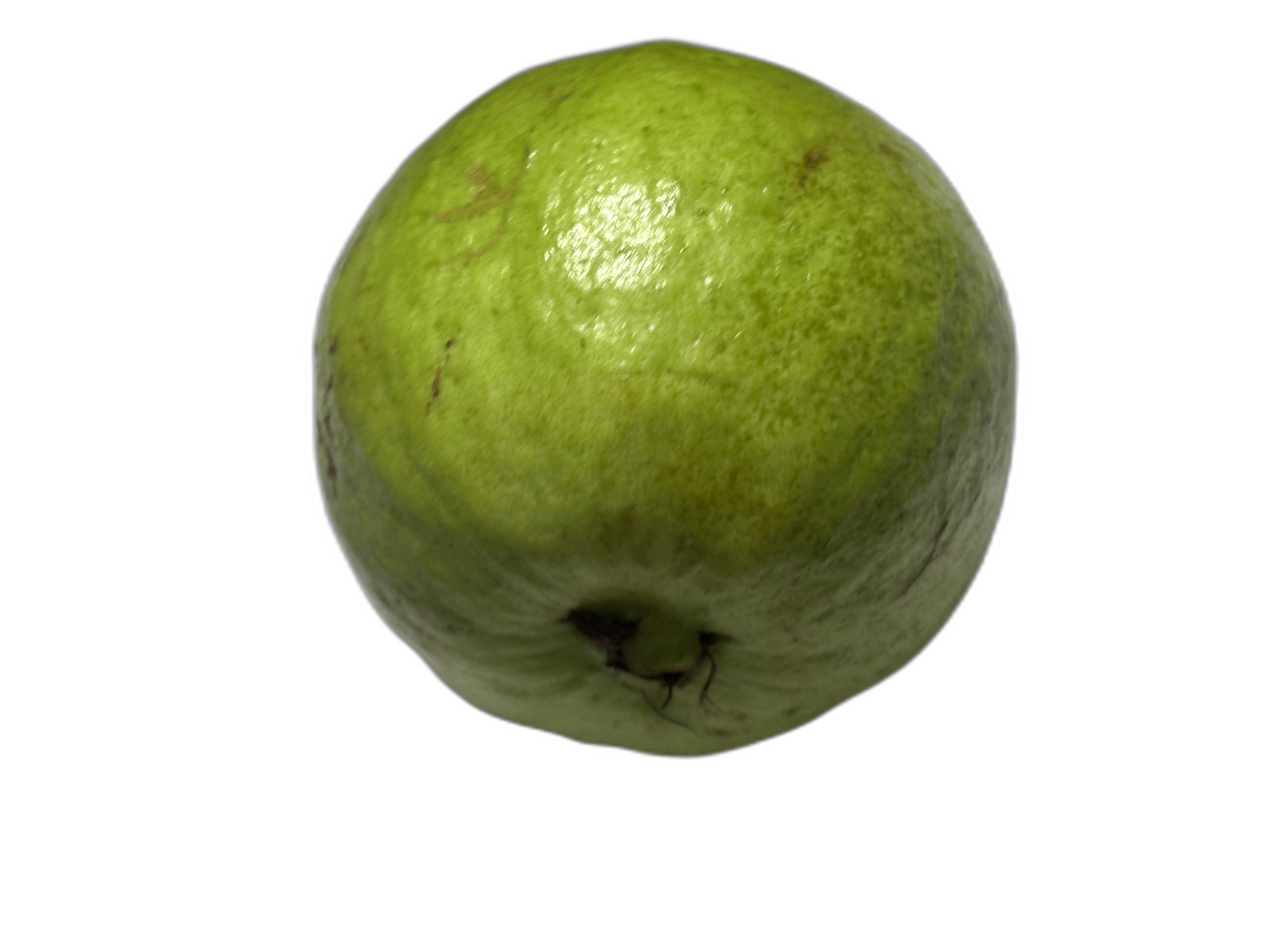guava: (115, 152, 1143, 779)
